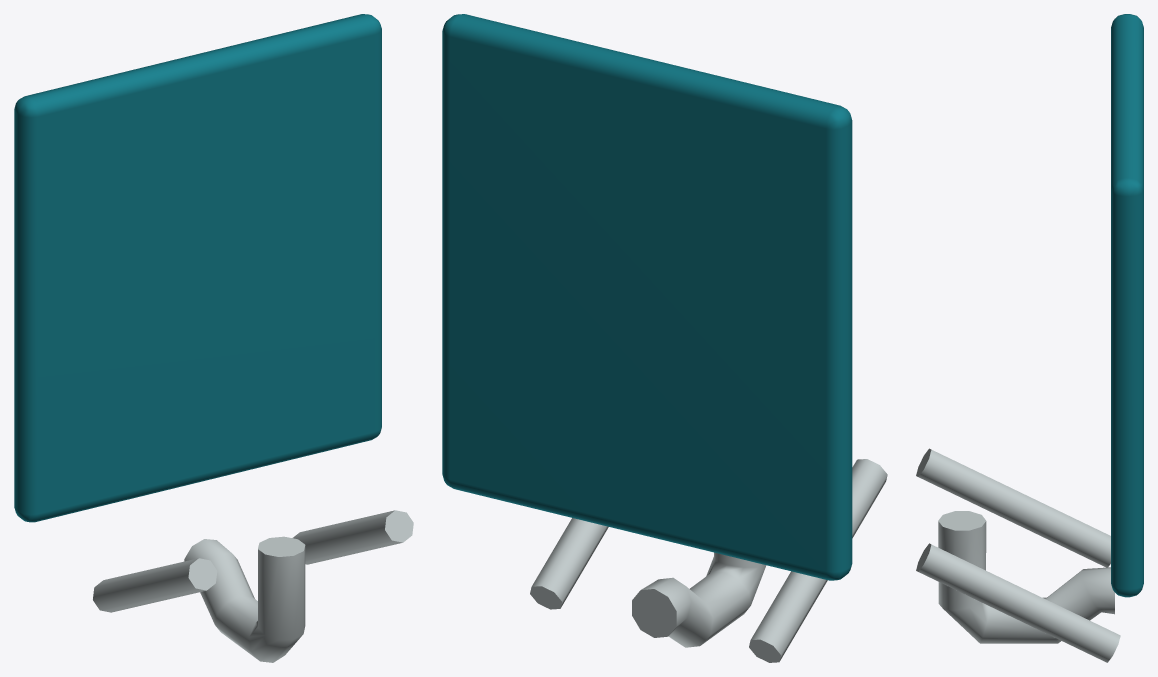
The model's file is Clinical_Handwash_Wall_Bracket.glb.
3 views of the same model, side by side, from view 1: azimuth 30°, elevation 25°; view 2: azimuth 150°, elevation 25°; view 3: azimuth 270°, elevation 25° (orthographic). The views are drawn at different scales.
Visible parts, largest first — view 1: Clinical_Handwash_Wall_Bracket__Visual; view 2: Clinical_Handwash_Wall_Bracket__Visual; view 3: Clinical_Handwash_Wall_Bracket__Visual.
Part boxes in pixels (x1,y1,x2,y2): Clinical_Handwash_Wall_Bracket__Visual: (14,14,413,662); Clinical_Handwash_Wall_Bracket__Visual: (442,14,887,662); Clinical_Handwash_Wall_Bracket__Visual: (916,14,1143,662).
Bounding box in the file's own units: 0.6 × 0.8739 × 0.3313.
Materials: 1 (1 with a texture image).
